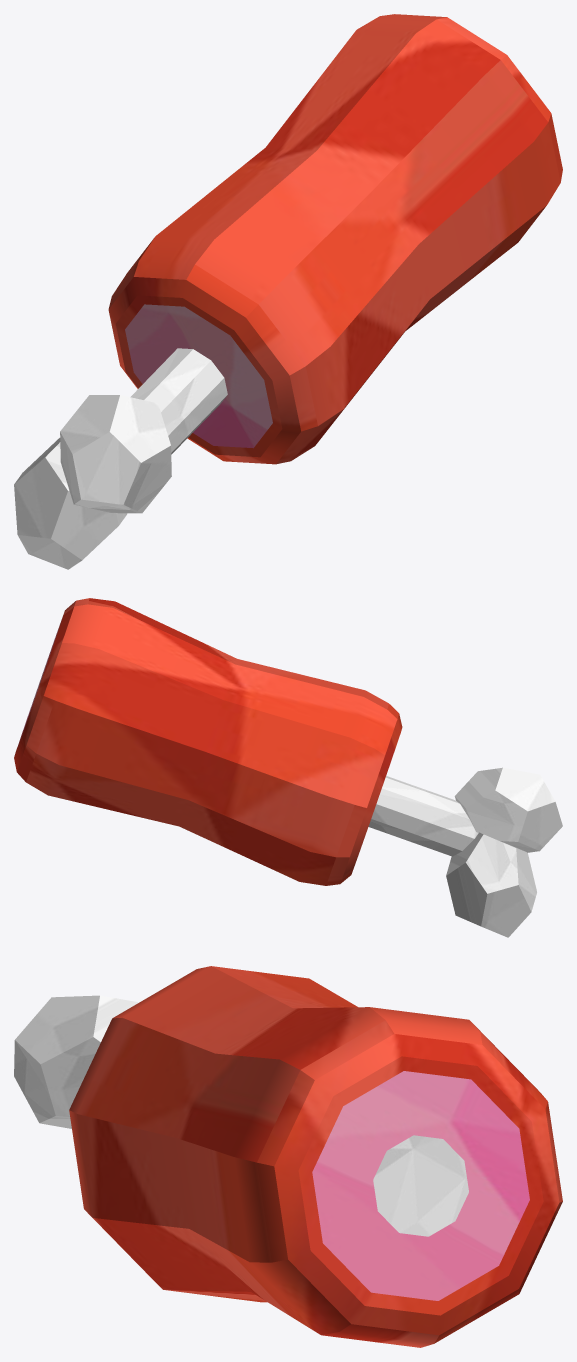
File: bird_cooked.fbx
The picture shows the model from 3 angles, top to bottom: view 1: azimuth 30°, elevation 25°; view 2: azimuth 150°, elevation 25°; view 3: azimuth 270°, elevation 25°; orthographic projection. The views are drawn at different scales.
Visible parts, largest first — view 1: pCylinder38, pPlatonic9, pPlatonic10; view 2: pCylinder38, pPlatonic10, pPlatonic9; view 3: pCylinder38, pPlatonic9.
Boxes of the visible parts, x1=… form: pCylinder38: x1=108, y1=14, x2=562, y2=464; pPlatonic9: x1=60, y1=395, x2=171, y2=513; pPlatonic10: x1=14, y1=438, x2=127, y2=569; pCylinder38: x1=14, y1=598, x2=478, y2=885; pPlatonic10: x1=446, y1=832, x2=536, y2=937; pPlatonic9: x1=454, y1=767, x2=562, y2=852; pCylinder38: x1=69, y1=966, x2=562, y2=1347; pPlatonic9: x1=14, y1=995, x2=138, y2=1128.
Size of the model in its own units: 0.4515 by 0.2786 by 0.2856.
